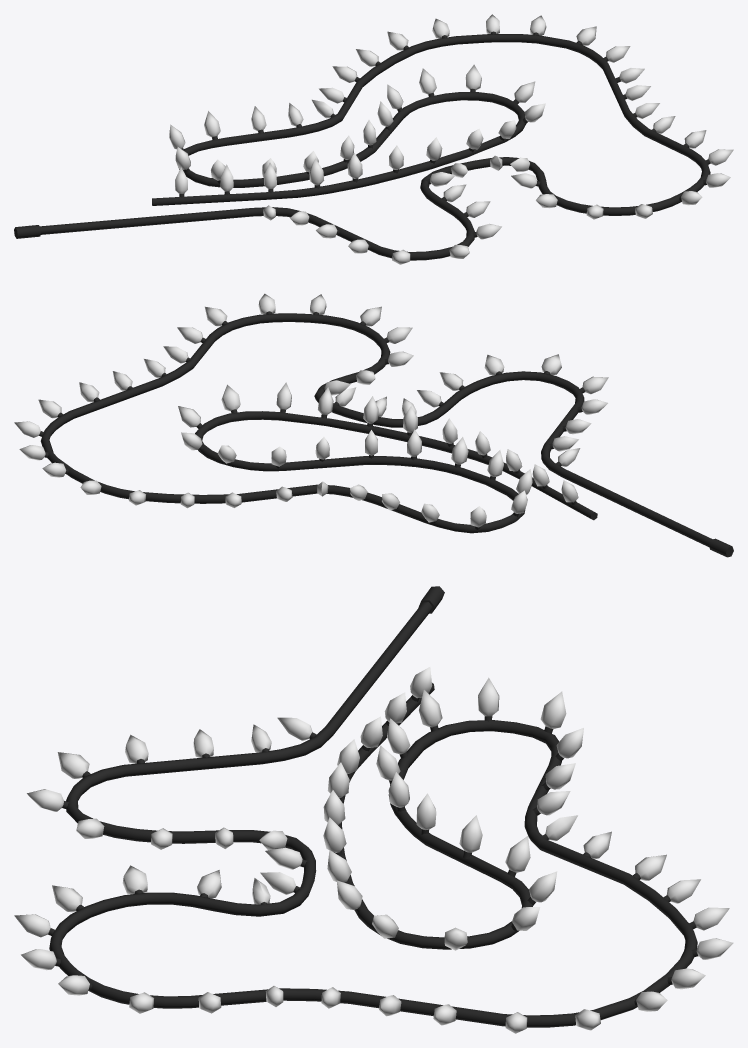
The model's file is ChristmasChainLight_01.fbx.
The picture shows the model from 3 angles, top to bottom: view 1: azimuth 30°, elevation 25°; view 2: azimuth 150°, elevation 25°; view 3: azimuth 270°, elevation 25°; orthographic projection. The views are drawn at different scales.
Visible parts, largest first — view 1: ChristmasChainLight_01; view 2: ChristmasChainLight_01; view 3: ChristmasChainLight_01.
Boxes of the visible parts, x1,y1,x2,y2 form: ChristmasChainLight_01: (14, 14, 733, 264); ChristmasChainLight_01: (14, 293, 733, 557); ChristmasChainLight_01: (14, 586, 733, 1033).
Bounding box in the file's own units: 1.7 × 0.0904 × 1.16.
